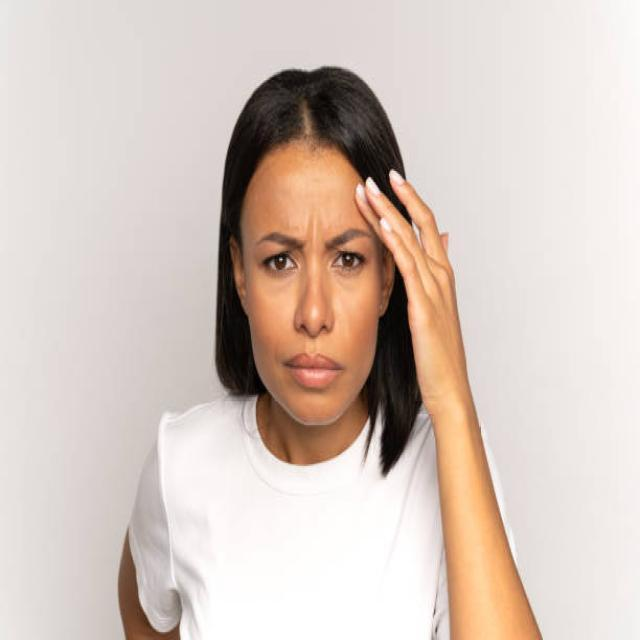dry: (261, 164, 360, 244)
